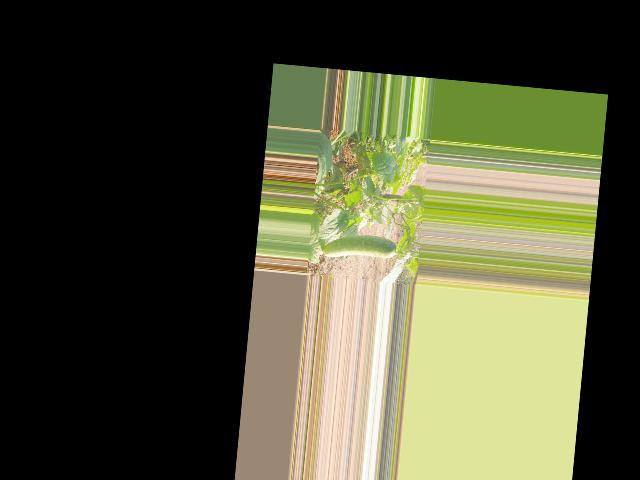cucumber: (322, 231, 396, 263)
